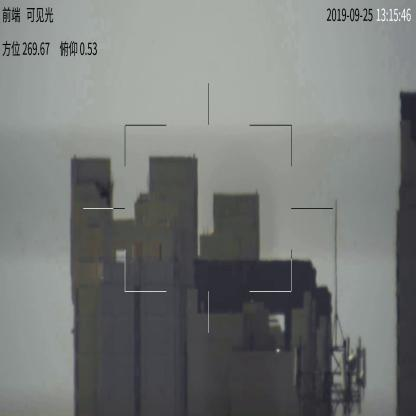uav: (93, 178, 116, 207)
